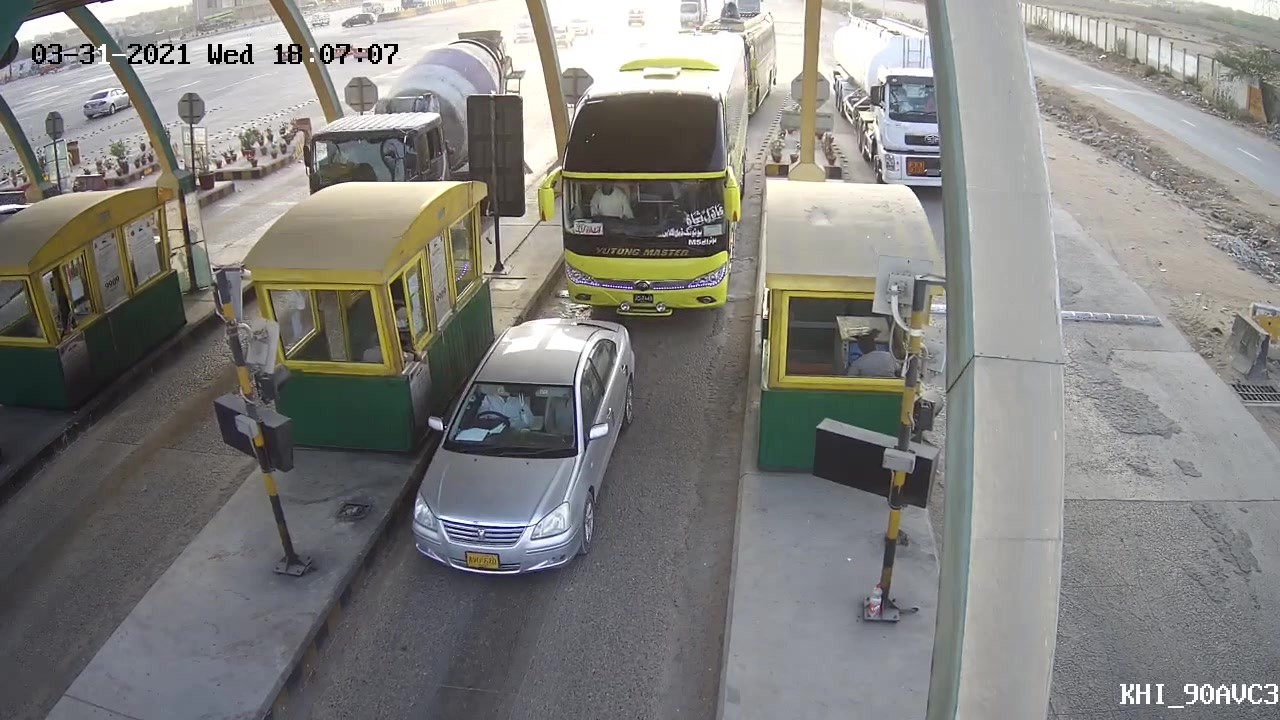F1: (401, 317, 648, 585)
F4: (534, 35, 762, 316)
